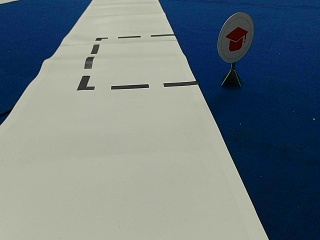school: (216, 13, 253, 62)
